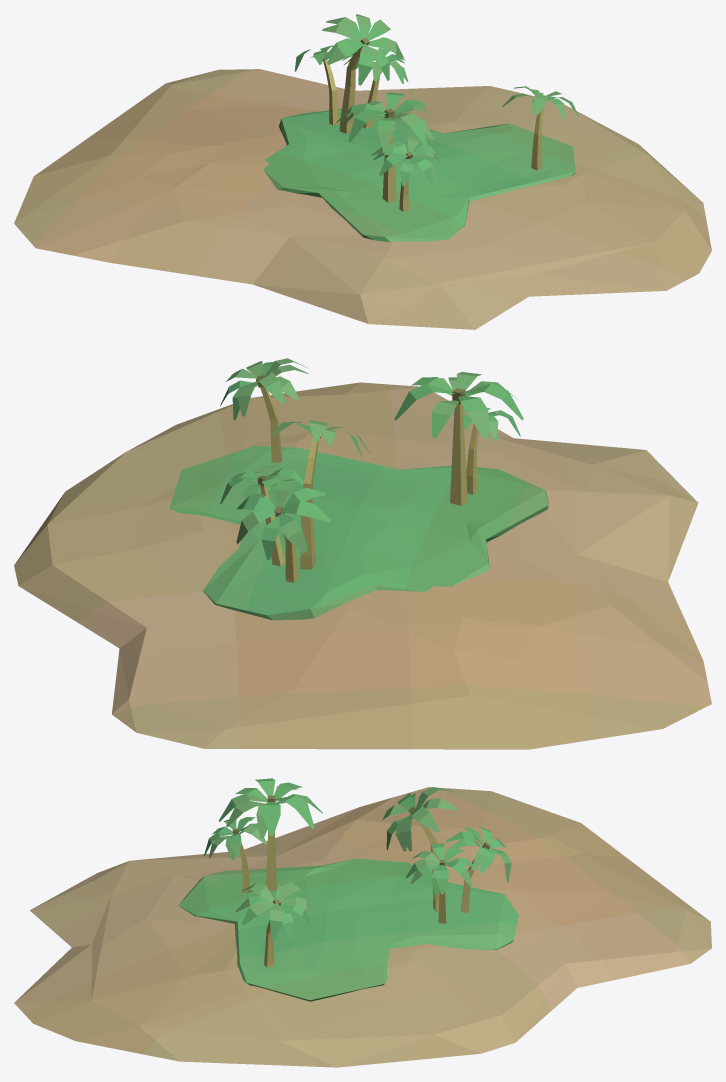
The model's file is island.glb.
The picture shows the model from 3 angles, top to bottom: view 1: azimuth 30°, elevation 25°; view 2: azimuth 150°, elevation 25°; view 3: azimuth 270°, elevation 25°; orthographic projection. The views are drawn at different scales.
Visible parts, largest first — view 1: Cube.003_Cube.002; view 2: Cube.003_Cube.002; view 3: Cube.003_Cube.002.
Boxes of the visible parts, <box> form: Cube.003_Cube.002: <box>14,14,711,329</box>; Cube.003_Cube.002: <box>14,358,711,749</box>; Cube.003_Cube.002: <box>14,778,711,1067</box>.
Bounding box in the file's own units: 47.54 × 12.34 × 49.93.
Materials: 1 (1 with a texture image).
